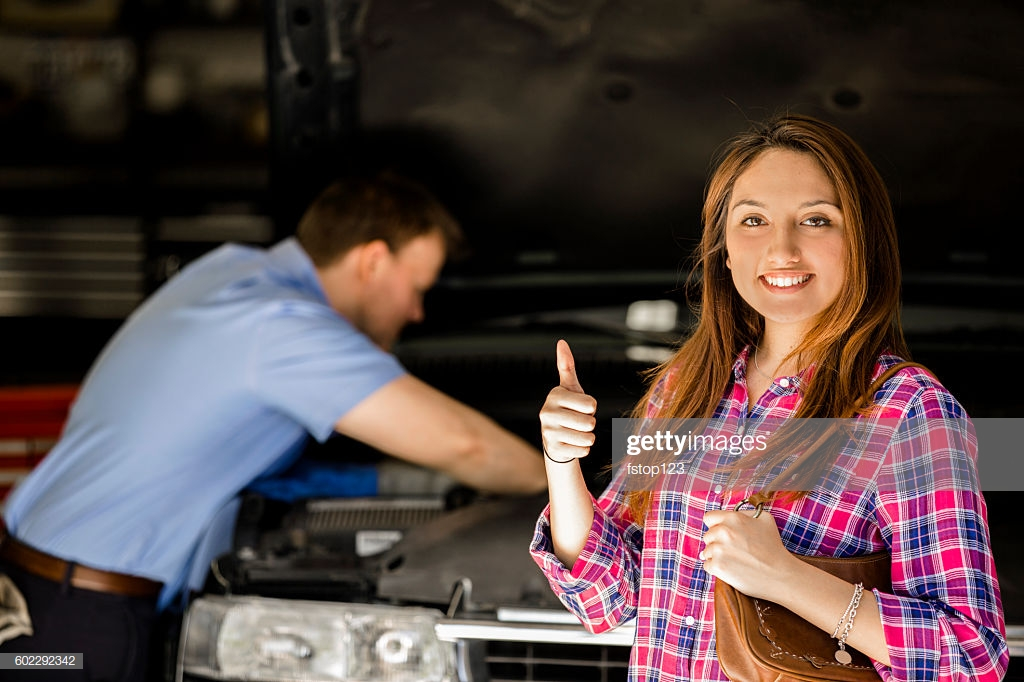thumbsup: (539, 339, 597, 458)
